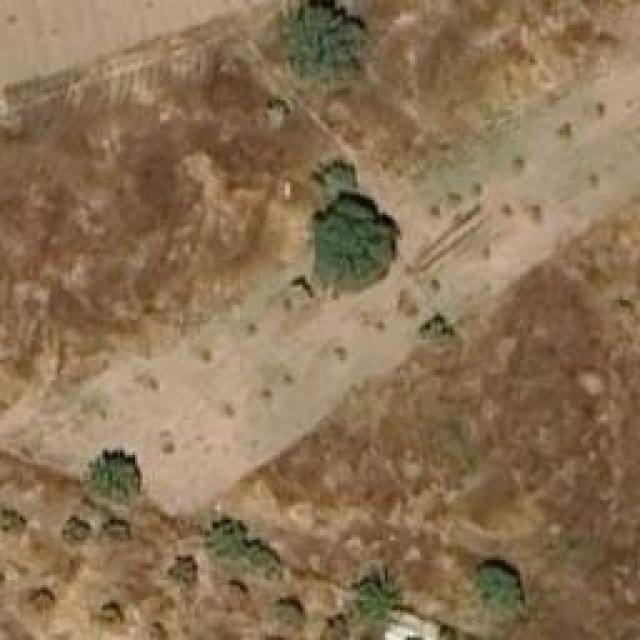Tree: (315, 198, 390, 288), (290, 0, 357, 82), (470, 560, 525, 619), (83, 453, 144, 504), (348, 573, 402, 627), (235, 538, 279, 578), (210, 518, 247, 560), (270, 593, 307, 629), (95, 600, 132, 635), (165, 555, 202, 588), (313, 163, 353, 193), (28, 590, 58, 624), (60, 513, 90, 544), (105, 517, 132, 549), (224, 578, 254, 605)
